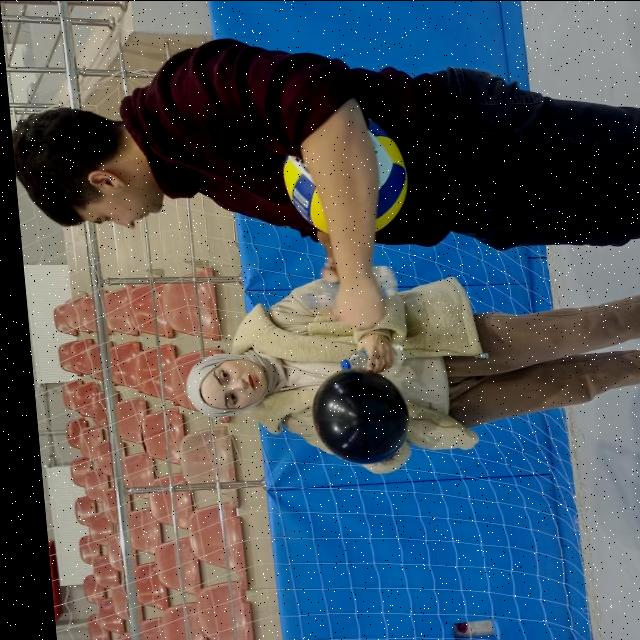balloon: (301, 368, 403, 459)
